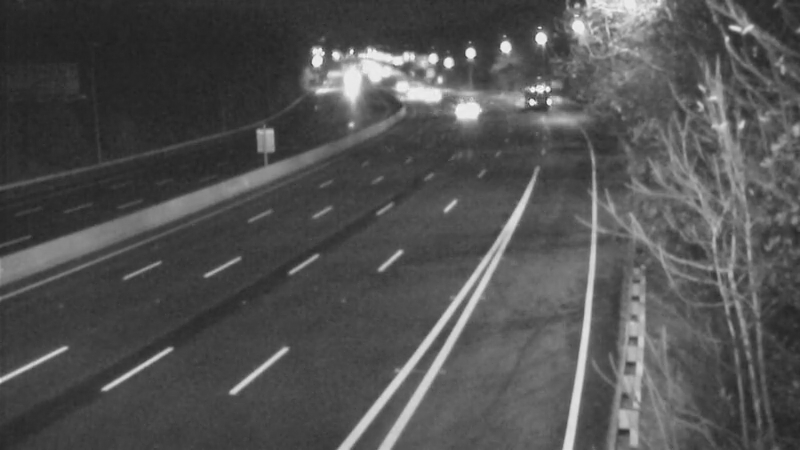vehicle: (372, 58, 422, 108), (410, 68, 460, 118), (386, 70, 436, 120), (510, 73, 560, 123), (442, 86, 492, 136)
